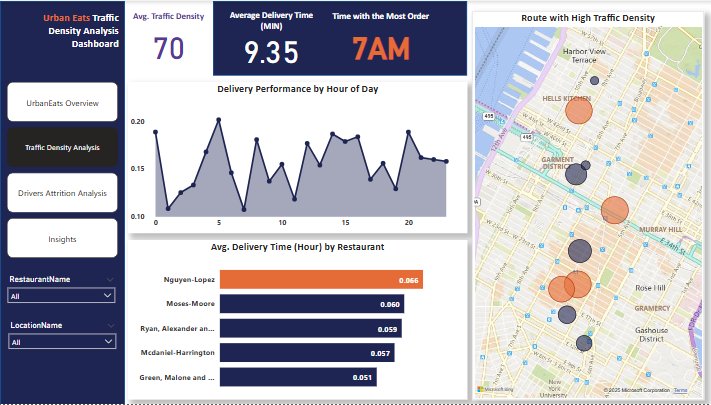

Layout of this report page (visuals, bound fields, positions):
{"tool":"powerbi","page":{"name":"Traffic Density Analysis","canvas":[1280,720],"ordinal":1},"visuals":[{"type":"shape","box":[10.1,0,223.4,720.6],"z":0},{"type":"shape","box":[390.8,0,454,133.1],"z":1000},{"type":"pageNavigator","box":[23.5,144.5,198.2,315.8],"z":2000},{"type":"card","title":"Average Delivery Time (MIN)","fields":{"Values":["CustomerOrders.AvgDeliveryTime"]},"box":[406.5,16.8,176.4,100.8],"z":3000},{"type":"card","title":"Avg. Traffic Density","fields":{"Values":["Avg(TrafficData.TrafficDensity)"]},"box":[233.8,17.1,155.3,100.7],"z":4000},{"type":"card","title":"Time with the Most Order","fields":{"Values":["CustomerOrders.Most Busy Hour"]},"box":[582,17.1,216.7,100.7],"z":5000},{"type":"areaChart","title":"Delivery Performance by Hour of Day","fields":{"Category":["CustomerOrders.Order Hour"],"Y":["CustomerOrders.AvgDeliveryTime_Hours"]},"box":[238.9,145.1,605.9,269.7],"z":6000},{"type":"barChart","title":"Avg. Delivery  Time (Hour) by Restaurant","fields":{"Y":["Avg(CustomerOrders.Time taken to deliver (Hour))"],"Category":["Restaurants.RestaurantName"]},"box":[238.9,426.7,605.9,285],"z":7000},{"type":"map","title":"Route with High Traffic Density","fields":{"Category":["TrafficData.LocationName"],"Y":["Avg(CustomerOrders.Latitude)"],"Size":["Avg(TrafficData.TrafficDensity)"],"X":["Avg(CustomerOrders.Longitude)"]},"box":[853.3,17.1,414.7,694.6],"z":8000},{"type":"textbox","box":[16.8,11.8,211.7,100.8],"z":9000},{"type":"slicer","fields":{"Values":["Restaurants.RestaurantName"]},"box":[15.1,483.8,211.7,73.9],"z":10000},{"type":"slicer","fields":{"Values":["TrafficData.LocationName"]},"box":[15.4,566.6,211.6,75.1],"z":11000}]}

Visuals, with their boxes in screenshot pixels (x1, y1, x2, y2), scaled from the page's 1280x720 canvas onto the 711x405 screenshot:
shape: [6,0,130,404]
shape: [217,0,469,75]
pageNavigator: [13,81,123,259]
"Average Delivery Time (MIN)" card: [226,9,324,66]
"Avg. Traffic Density" card: [130,10,216,66]
"Time with the Most Order" card: [323,10,444,66]
"Delivery Performance by Hour of Day" areaChart: [133,82,469,233]
"Avg. Delivery  Time (Hour) by Restaurant" barChart: [133,240,469,400]
"Route with High Traffic Density" map: [474,10,704,400]
textbox: [9,7,127,63]
slicer - Restaurants.RestaurantName: [8,272,126,314]
slicer - TrafficData.LocationName: [9,319,126,361]
